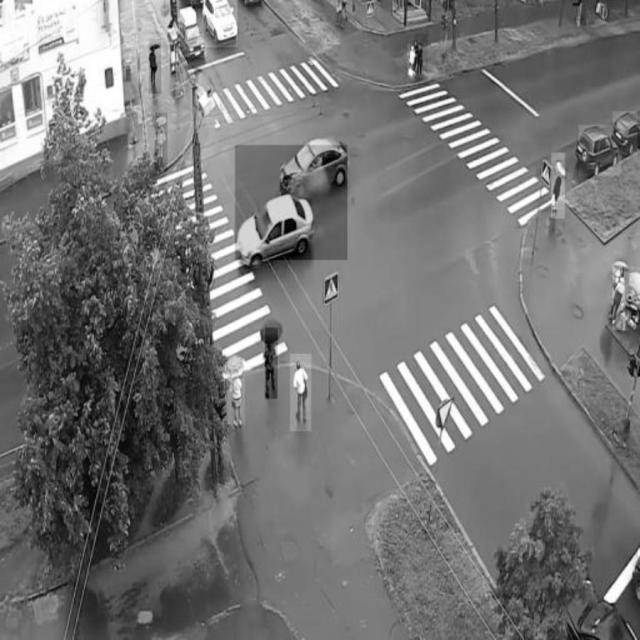accident: (235, 145, 347, 259)
person: (291, 354, 311, 431), (228, 358, 245, 425), (264, 328, 278, 399), (551, 153, 565, 219), (614, 264, 626, 330), (156, 113, 168, 171), (149, 40, 161, 95), (415, 34, 427, 85), (408, 44, 418, 81)
vehicle: (579, 126, 621, 177), (207, 0, 237, 47), (179, 9, 206, 57), (614, 111, 639, 155)
